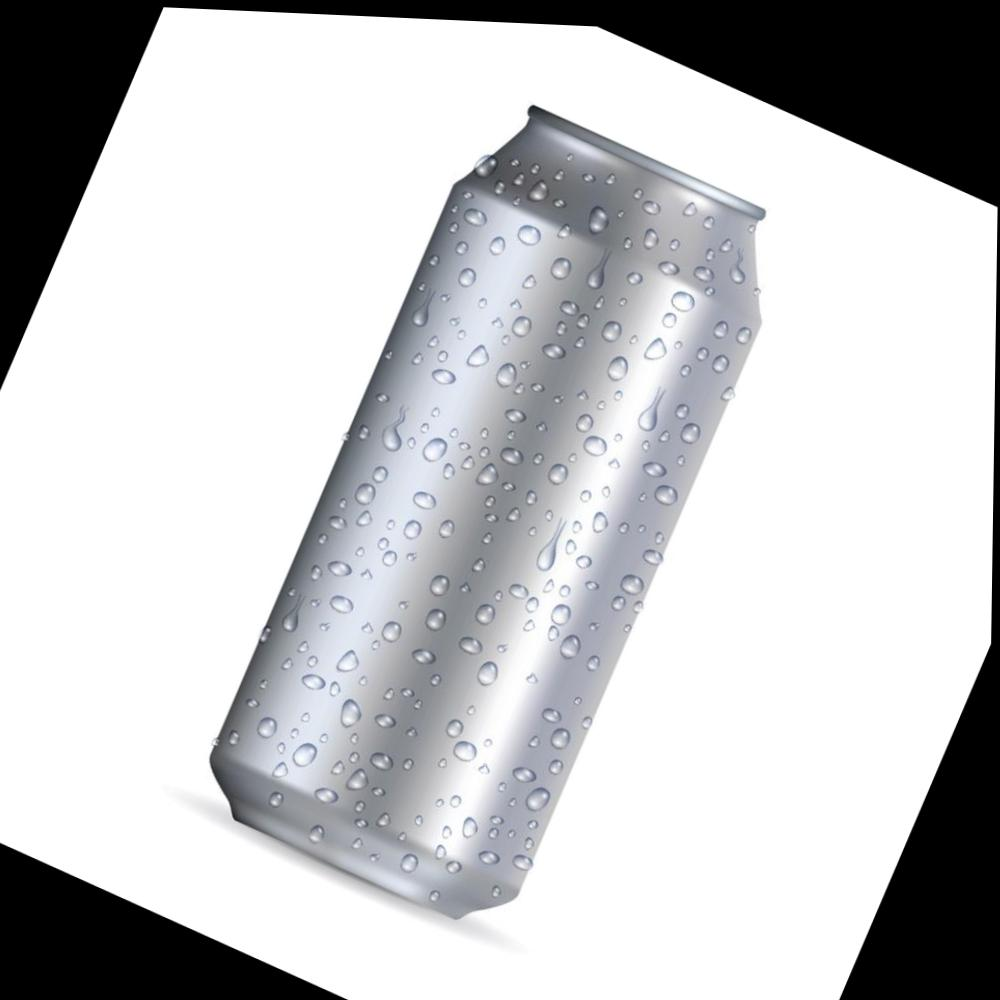metal: (211, 108, 762, 916)
